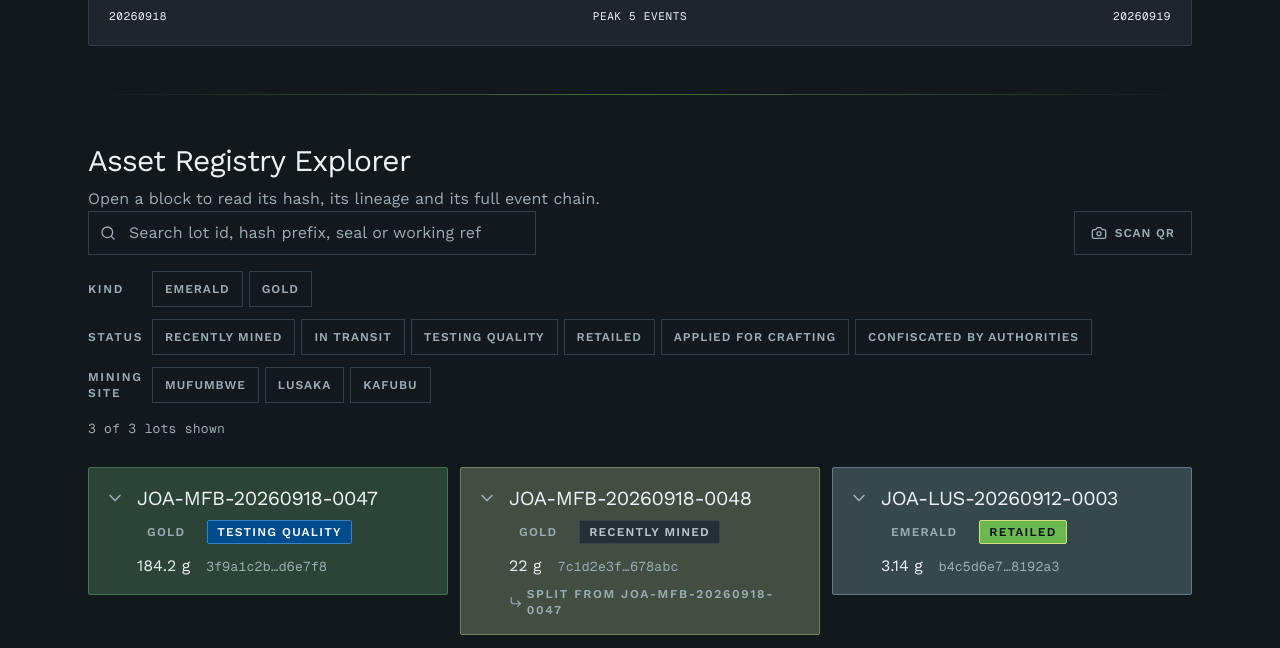
Test: Library home page › filters by kind chip and reflects the state in the URL
The width and height of the screenshot is (1280, 648).
(page scrolled)
Check: the text "JOA-MFB-20260918-0047" is shown, box [137,484,377,512]
Click the button with test id "register.filter.type.emerald". click: (197, 288)
box: [152,270,243,306]
(page scrolled)
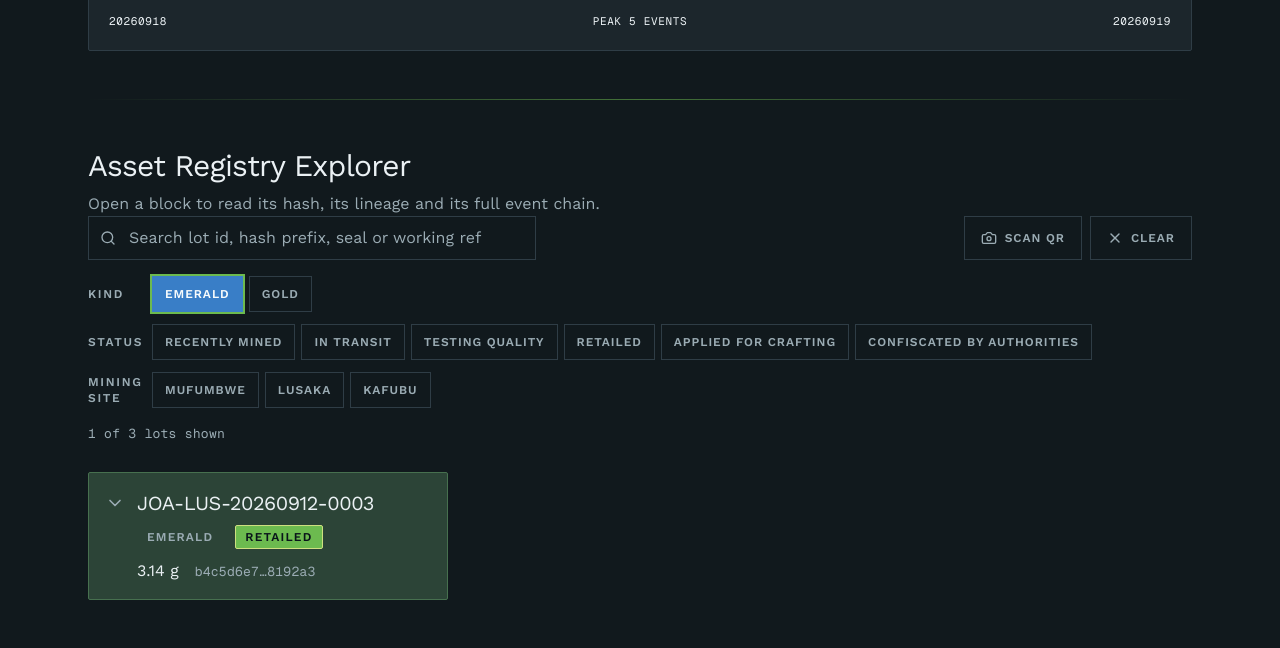
Check: the text "JOA-LUS-20260912-0003" is shown, box [137,488,374,516]
Check: the button "JOA-MFB-20260918-0047" is gone
